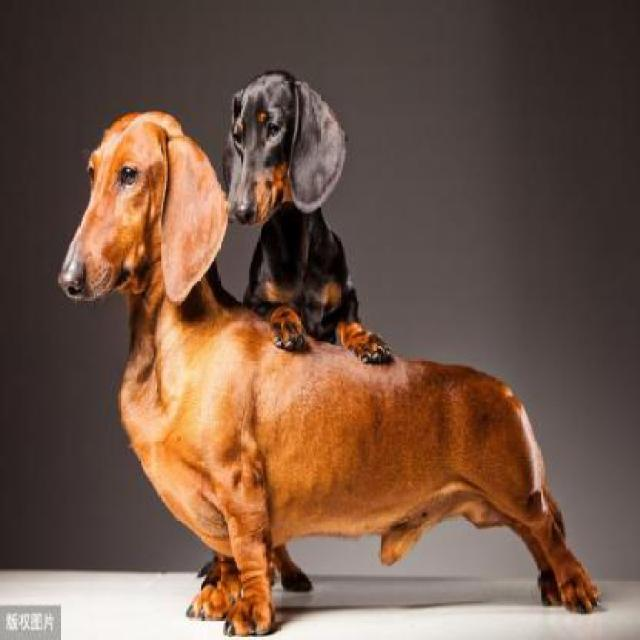Dog: (52, 104, 603, 638), (222, 71, 398, 369)
